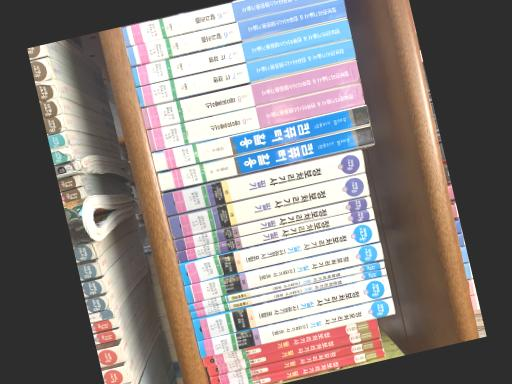book-spine: (140, 60, 360, 129), (134, 39, 355, 107), (130, 19, 351, 86), (145, 84, 364, 151), (125, 0, 346, 66), (150, 106, 369, 172), (156, 125, 374, 191), (161, 150, 364, 215), (167, 173, 369, 238), (178, 220, 379, 285), (191, 276, 391, 340), (182, 242, 383, 303), (196, 298, 394, 358), (173, 196, 371, 251), (175, 208, 374, 262), (187, 261, 384, 311), (188, 269, 385, 318), (121, 0, 326, 46), (201, 319, 377, 368), (206, 328, 379, 376), (209, 340, 381, 384), (226, 349, 384, 384)
